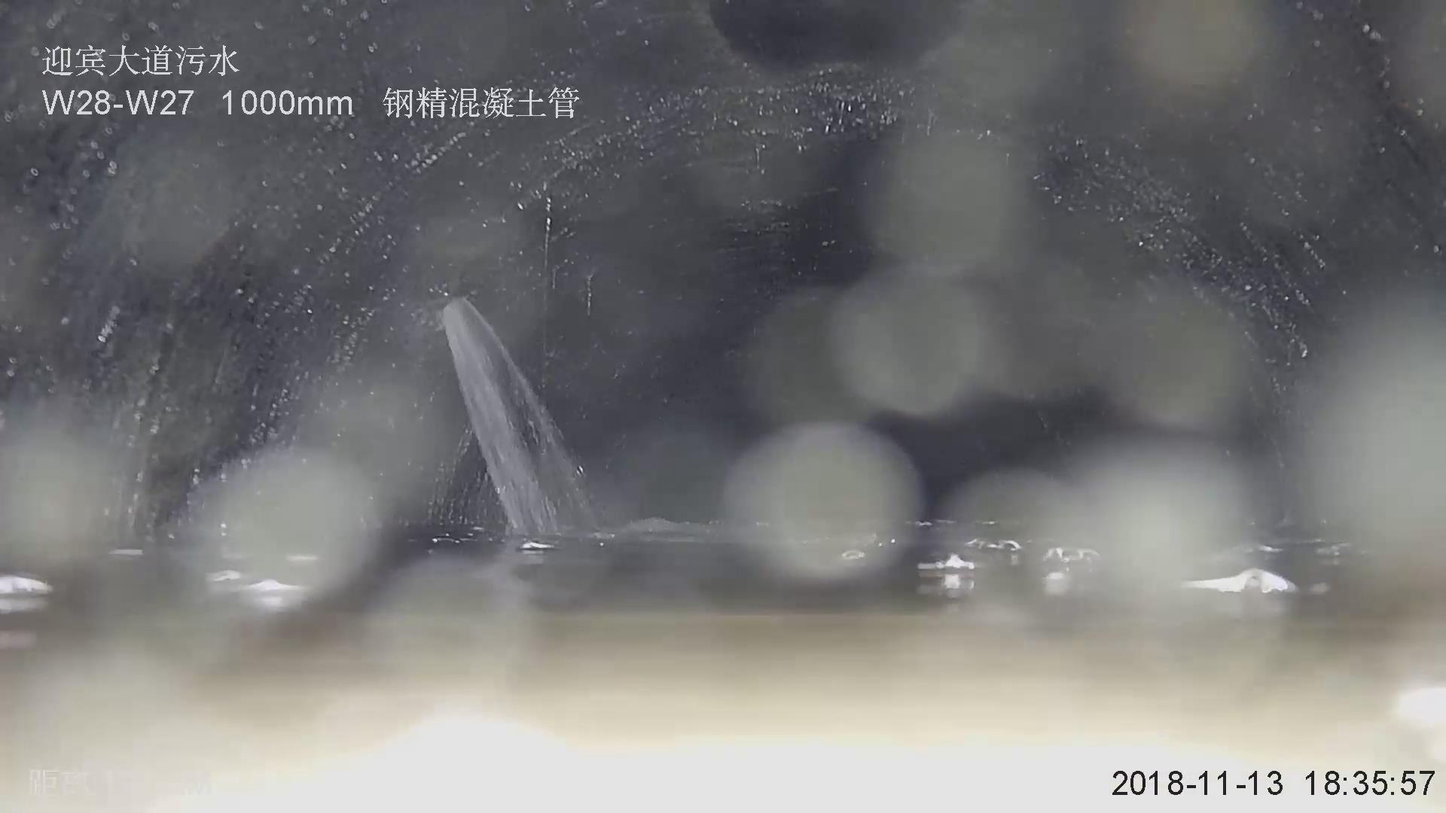SL: (426, 293, 624, 548)
